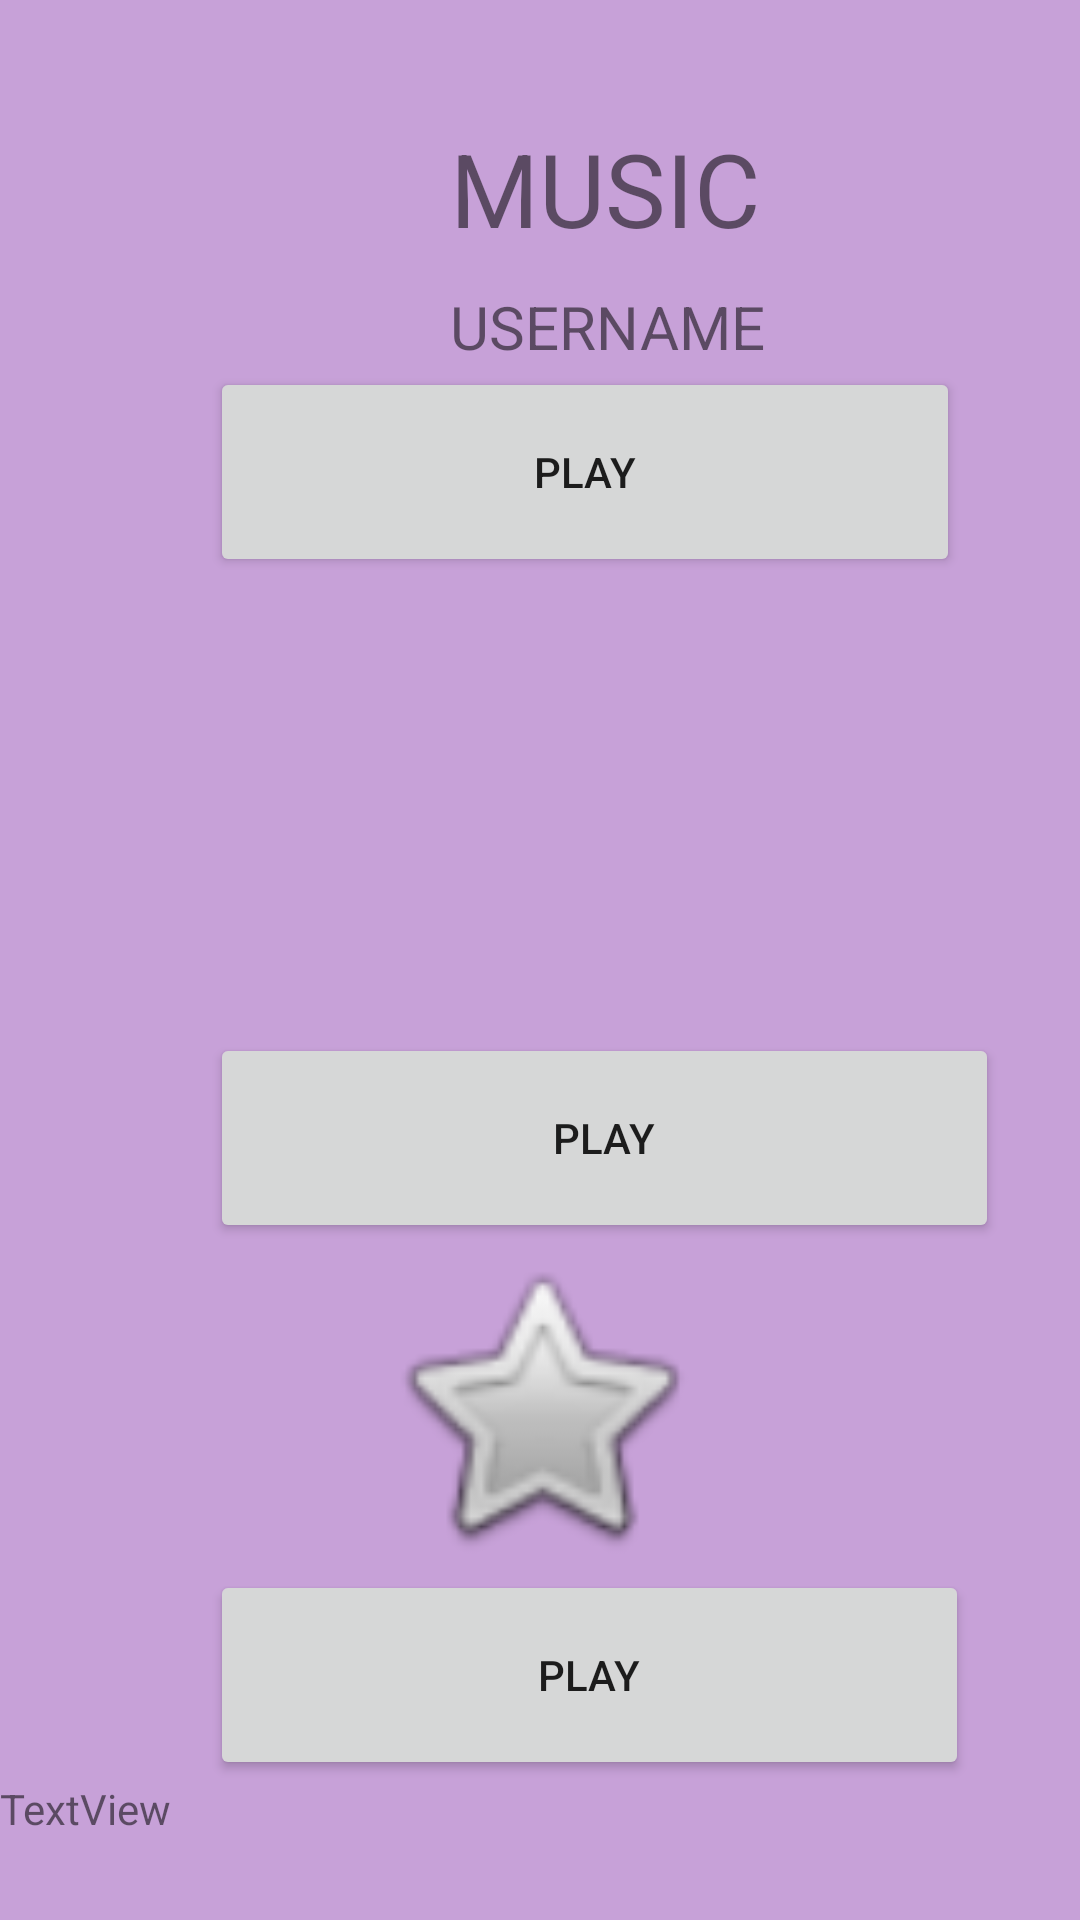

Icons on this 1080x1920 Android screen, each with its box as (left=x1, top=y1, right=x2, bottom=y2):
star: (left=407, top=1276, right=679, bottom=1542)
